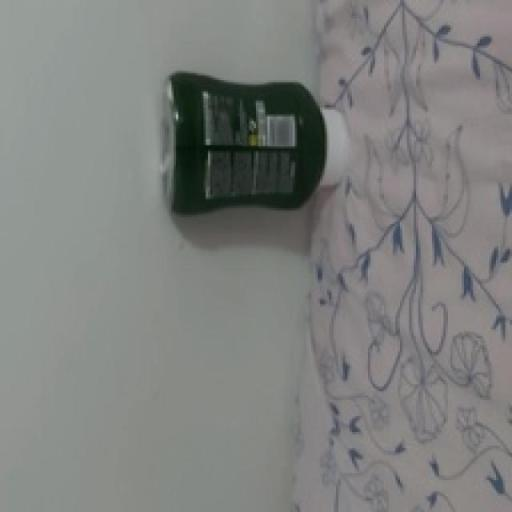plastic: (143, 66, 351, 224)
